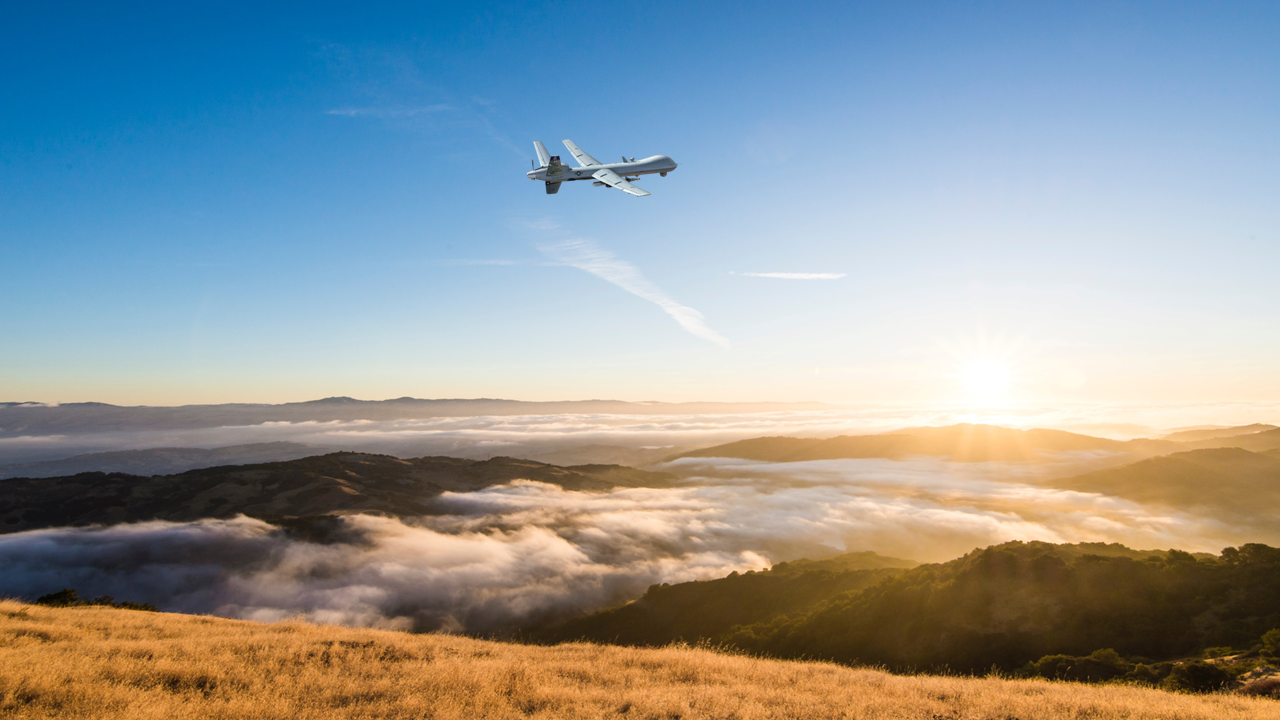military drone: (526, 138, 677, 196)
